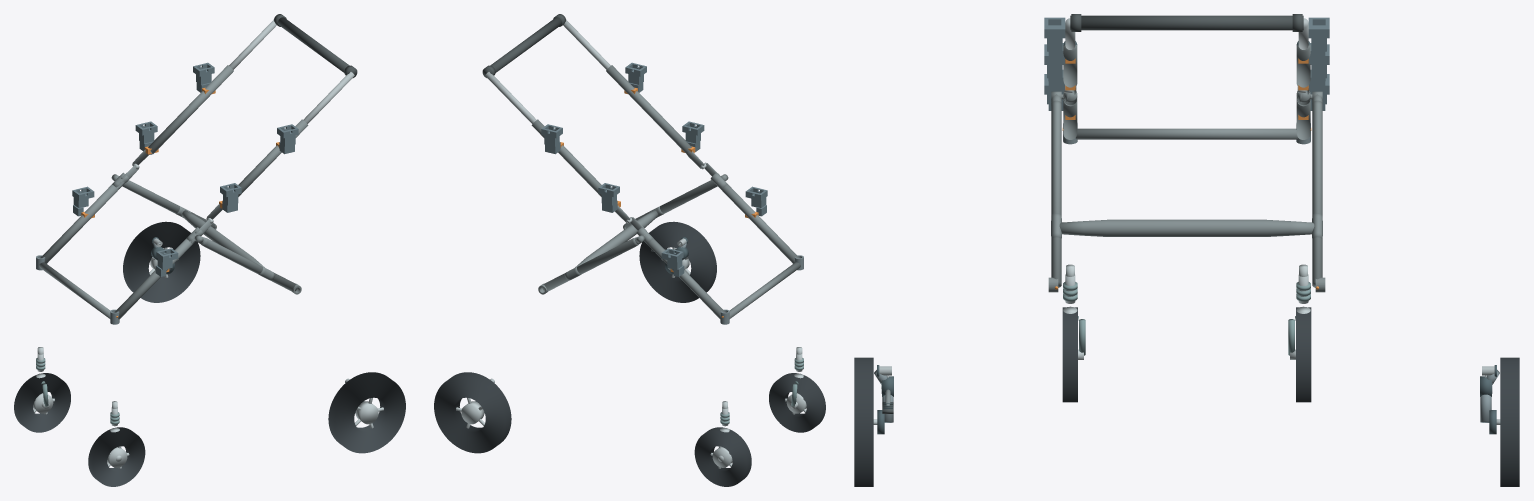
File: w650_state4_wheel_M.glb
3 views of the same model, side by side, from view 1: azimuth 30°, elevation 25°; view 2: azimuth 150°, elevation 25°; view 3: azimuth 270°, elevation 25° (orthographic). The views are drawn at different scales.
Visible parts, largest first — view 1: RL_tire.014, RR_tire.014, FL_tire.014, FR_tire.014, main_upper_1.013, main_lower_1.013, round_handle.014, V46_rear_leg_-1.012, V46_rearbar.012, main_lower_-1.013, front_fixed_round_tube.013, main_upper_-1.013 (+9 smaller); view 2: RR_tire.014, RL_tire.014, FR_tire.014, FL_tire.014, main_upper_-1.013, main_lower_-1.013, round_handle.014, V46_rear_leg_1.012, V46_rearbar.012, main_lower_1.013, front_fixed_round_tube.013, main_upper_1.013 (+9 smaller); view 3: V46_rearbar.012, round_handle.014, front_fixed_round_tube.013, RL_tire.014, RR_tire.014, V46_rear_leg_1.012, V46_rear_leg_-1.012, FL_tire.014, FR_tire.014, Universal_Cabin_Receiver_H_1, Universal_Cabin_Receiver_H_-1.
Part boxes in pixels (x1,y1,x2,y2): RL_tire.014: (328, 372, 405, 453); RR_tire.014: (123, 221, 200, 302); FL_tire.014: (88, 427, 145, 486); FR_tire.014: (14, 373, 70, 432); main_upper_1.013: (148, 65, 233, 153); main_lower_1.013: (40, 182, 123, 263); round_handle.014: (278, 17, 356, 76); V46_rear_leg_-1.012: (201, 238, 297, 291); V46_rearbar.012: (181, 210, 264, 267); main_lower_-1.013: (114, 238, 194, 319); front_fixed_round_tube.013: (39, 262, 110, 318); main_upper_-1.013: (238, 119, 308, 196); RR_tire.014: (434, 372, 511, 453); RL_tire.014: (639, 221, 716, 302); FR_tire.014: (694, 427, 751, 486); FL_tire.014: (769, 373, 825, 432); main_upper_-1.013: (606, 65, 691, 153); main_lower_-1.013: (716, 182, 799, 263); round_handle.014: (483, 17, 561, 76); V46_rear_leg_1.012: (542, 238, 638, 291); V46_rearbar.012: (575, 210, 658, 267); main_lower_1.013: (645, 238, 725, 319); front_fixed_round_tube.013: (729, 262, 800, 318); main_upper_1.013: (531, 119, 601, 196); V46_rearbar.012: (1059, 219, 1314, 236); round_handle.014: (1070, 15, 1303, 30); front_fixed_round_tube.013: (1075, 128, 1298, 139); RL_tire.014: (854, 357, 873, 486); RR_tire.014: (1500, 357, 1519, 486); V46_rear_leg_1.012: (1312, 100, 1322, 287); V46_rear_leg_-1.012: (1051, 100, 1061, 287); FL_tire.014: (1062, 307, 1077, 402); FR_tire.014: (1296, 307, 1311, 402); Universal_Cabin_Receiver_H_1: (1308, 17, 1329, 63); Universal_Cabin_Receiver_H_-1: (1044, 17, 1065, 63).
Bounding box in the file's own units: 1.12 × 1.44 × 1.54.
